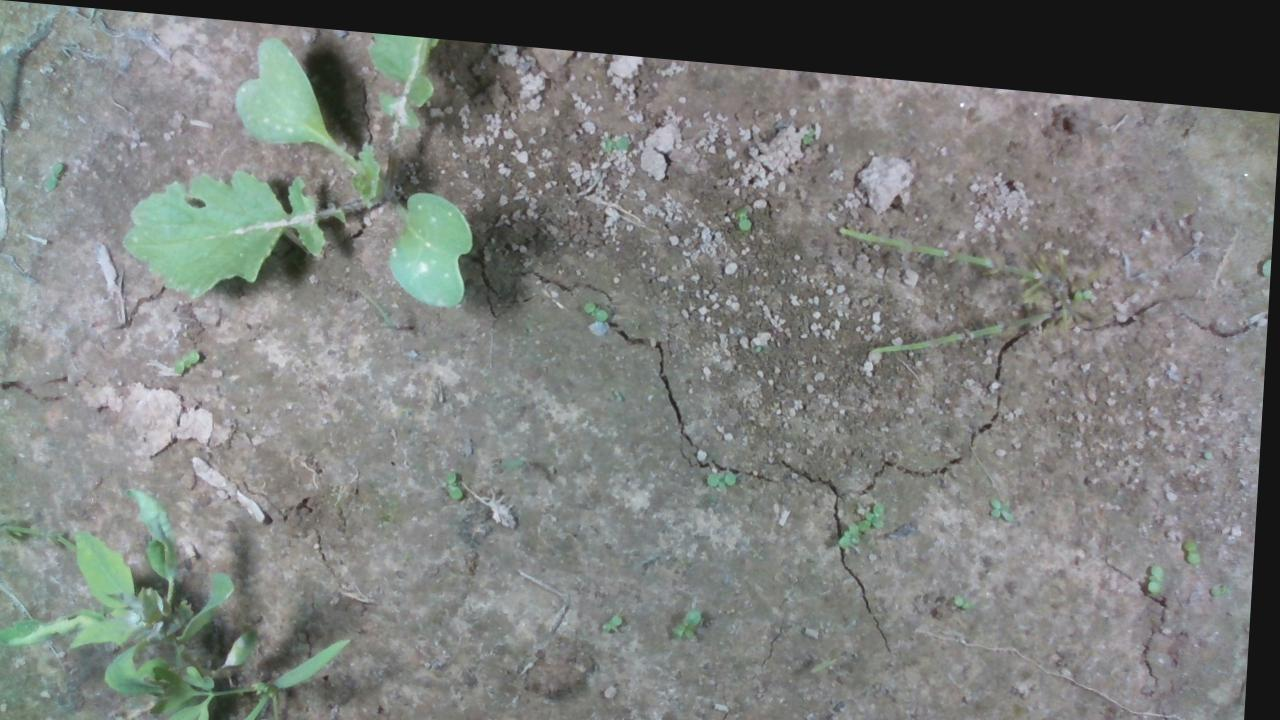weed: (439, 450, 491, 503), (579, 281, 622, 315), (989, 476, 1024, 516), (708, 449, 753, 478), (1147, 540, 1175, 584), (1182, 515, 1215, 550), (604, 595, 634, 616), (732, 195, 758, 215)
